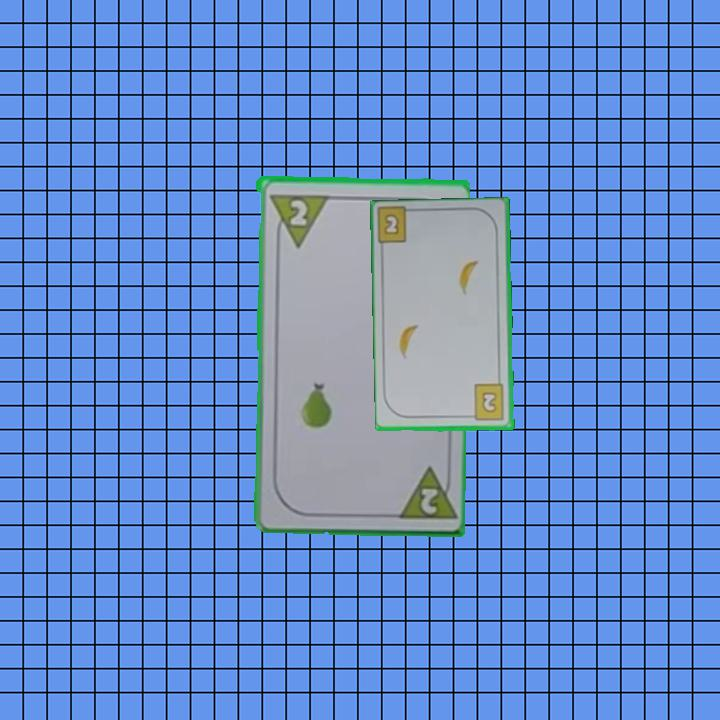2b: (465, 381, 507, 424), (381, 210, 402, 238)
2p: (390, 462, 456, 522), (265, 189, 328, 250)
